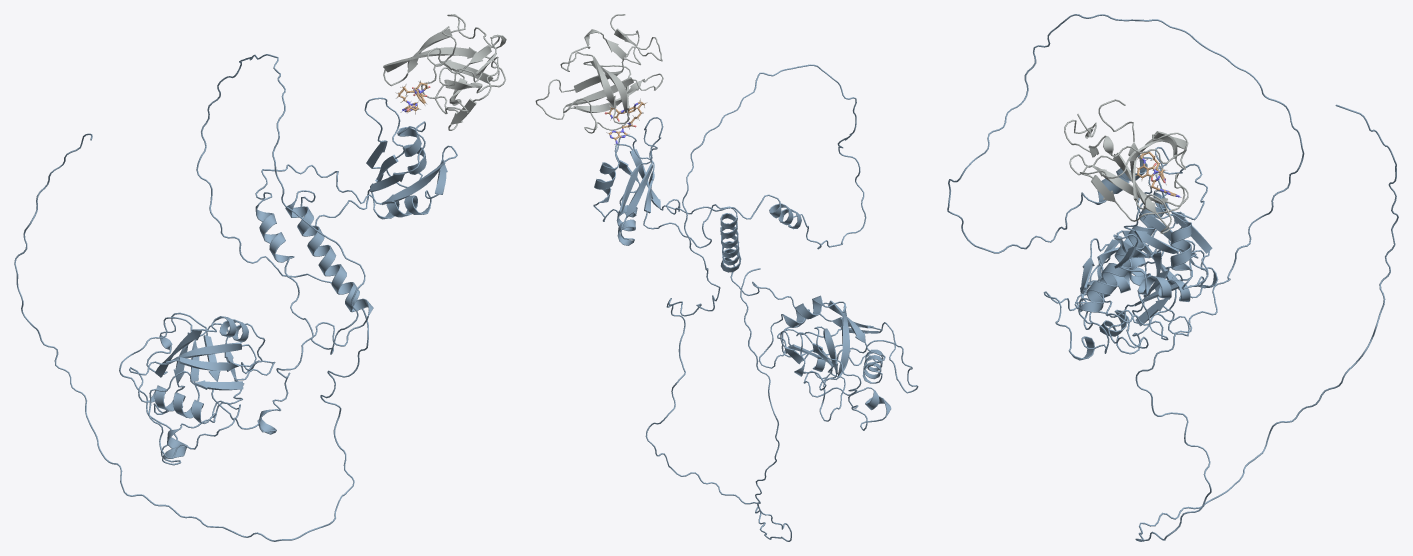
The model's file is TM-04-064-02_positive_control.glb.
3 views of the same model, side by side, from view 1: azimuth 30°, elevation 25°; view 2: azimuth 150°, elevation 25°; view 3: azimuth 270°, elevation 25° (orthographic). The views are drawn at different scales.
Parts seen in each view (by area): view 1: node-geom141, node-geom142; view 2: node-geom141, node-geom142; view 3: node-geom141, node-geom142.
Part boxes in pixels (x1,y1,x2,y2): node-geom141: (119, 14, 506, 465); node-geom142: (14, 54, 457, 541); node-geom141: (535, 14, 918, 430); node-geom142: (593, 64, 866, 541); node-geom141: (1043, 99, 1218, 360); node-geom142: (947, 14, 1398, 541).
Bounding box in the file's own units: 110 × 133 × 107.
